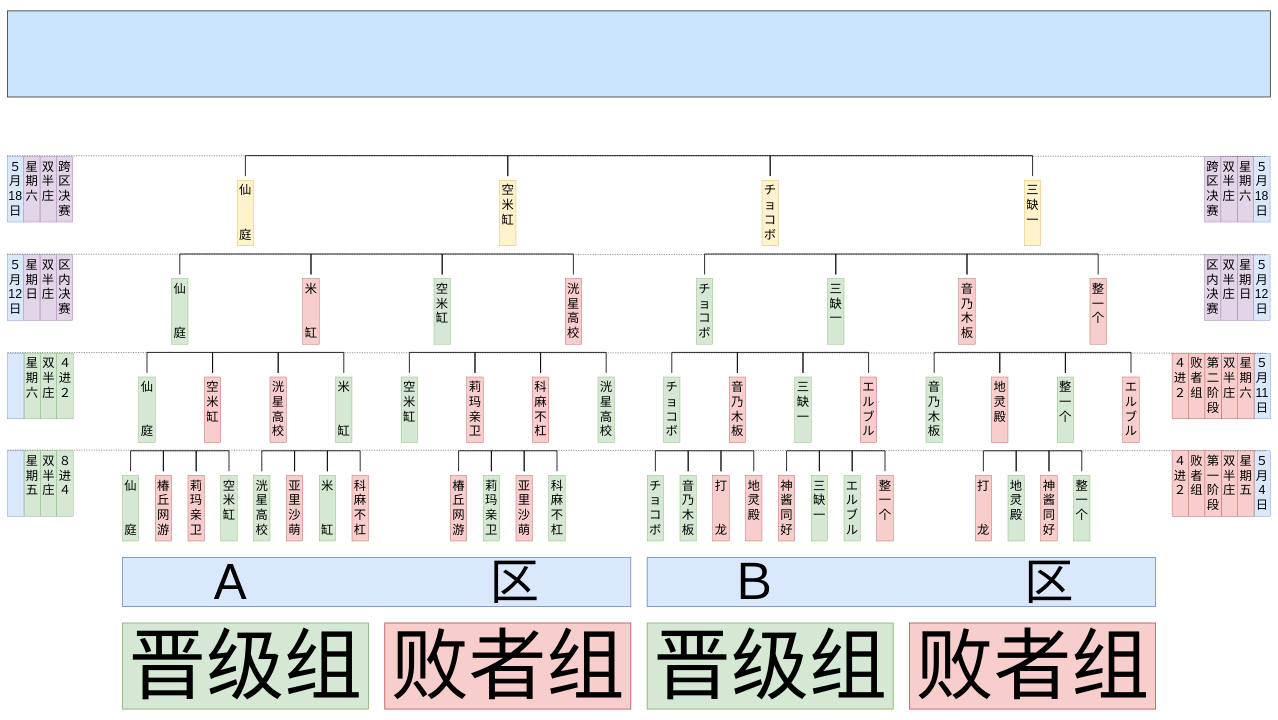
Some shapes in this 1278 by 720 pixel diagram are drawn without their labels. Each missing label, with the centre of its shape:
第四届 瓜皮型嚶花庄 雀魂赛事: the point at 639,53
５月３日: the point at 15,483
５月４日: the point at 15,386
